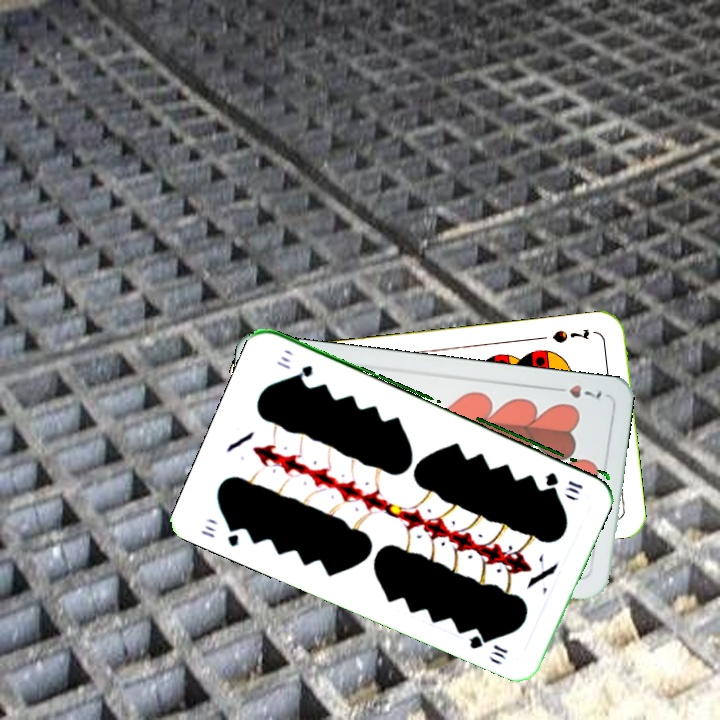G10: (197, 520, 245, 550), (541, 468, 586, 497)
H7: (548, 381, 605, 402)
S7: (548, 324, 592, 346)
